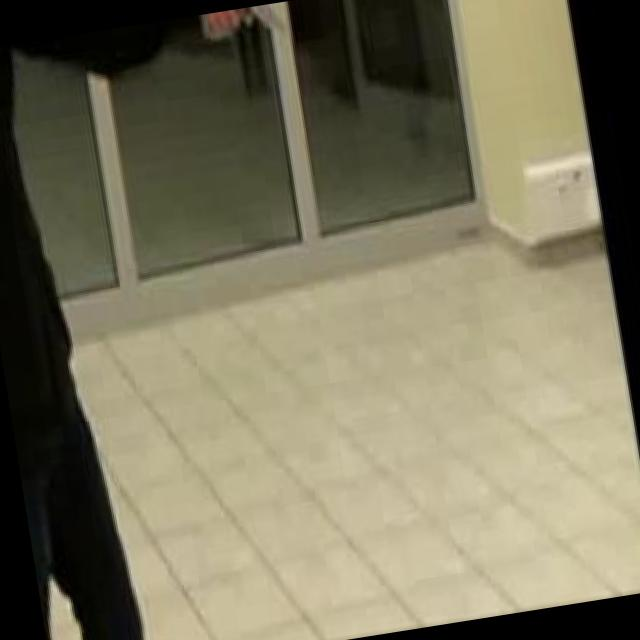Guns: (202, 1, 294, 52)
